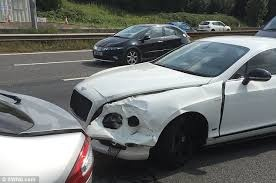Smashed: (94, 96, 156, 154)
